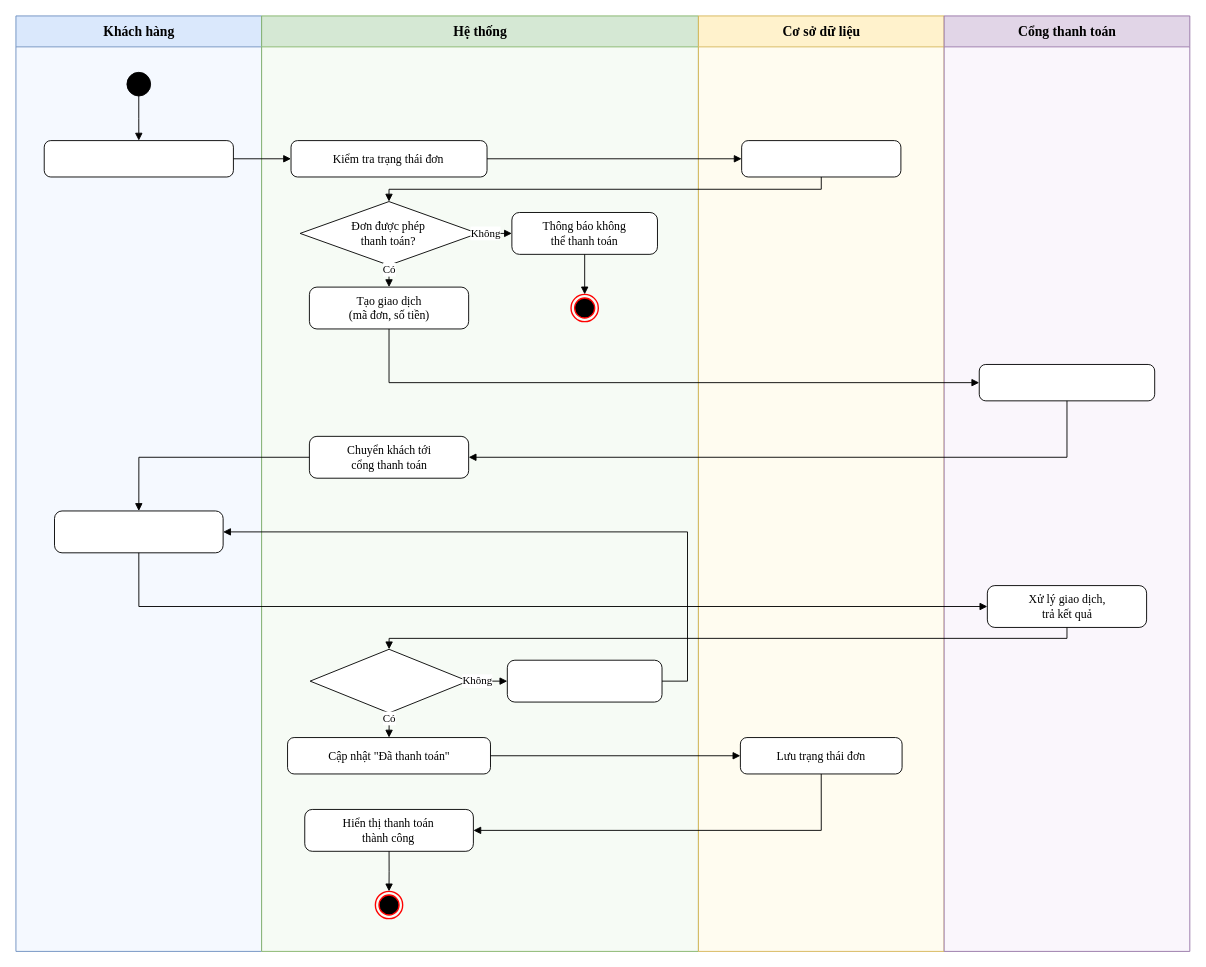
Image size: 1206x967. Some labels were removed from this diagram. Each missing label, with the centre of its shape:
"Chọn thanh toán online" goes at point 138,158.
"Giao dịch thành công?" goes at point 388,680.
"Thông báo thất bại, cho thanh toán lại" goes at point 584,680.
"Truy vấn đơn hàng" goes at point 821,158.
"Tạo phiên thanh toán" goes at point 1066,382.
"Xác nhận thanh toán trên cổng" goes at point 138,531.
